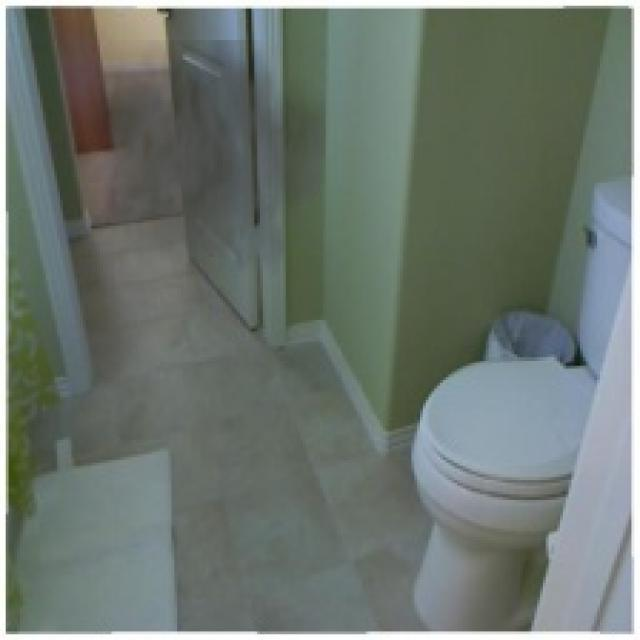Smoke: (88, 40, 326, 303)
